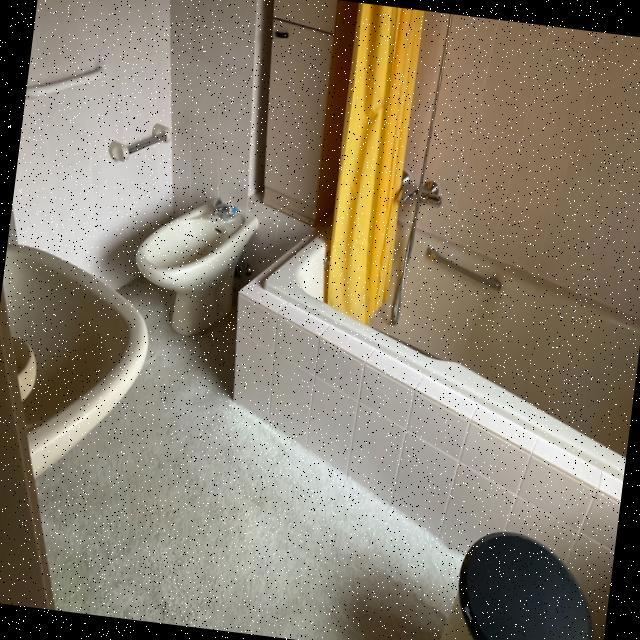bath: (212, 0, 640, 552)
toilet: (125, 184, 261, 344)
wastafel: (0, 240, 158, 480)
